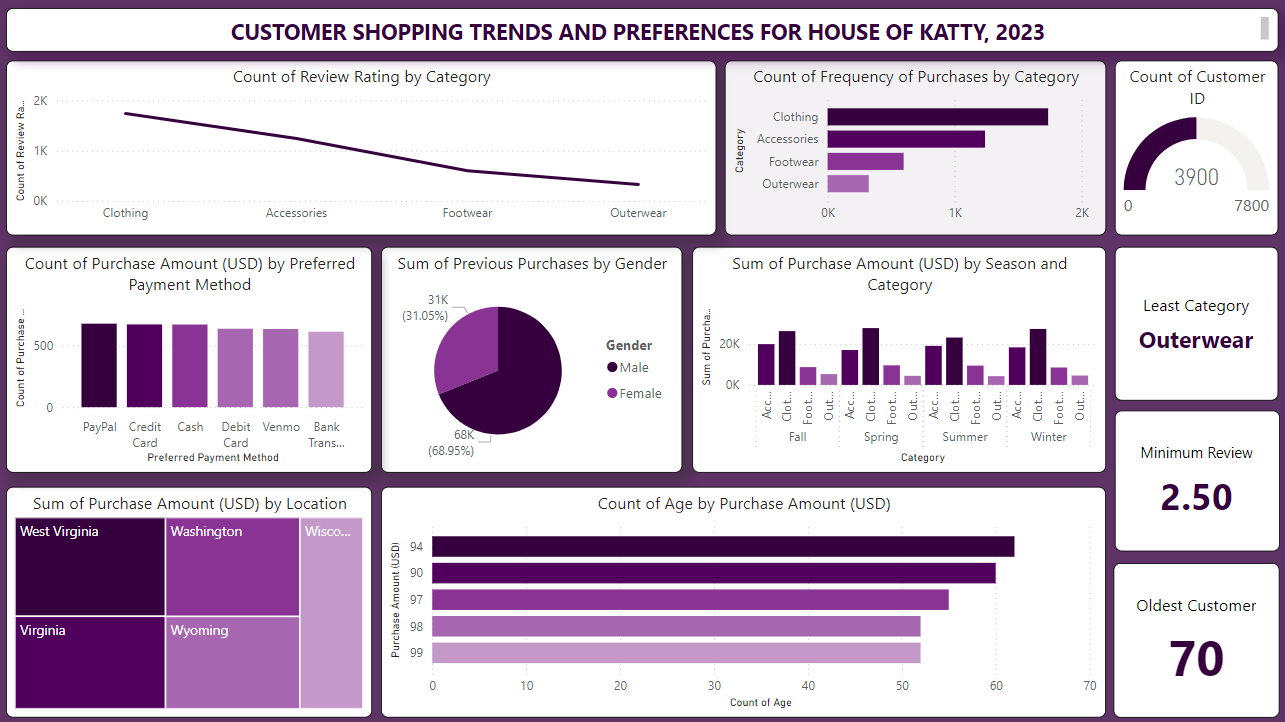

Layout of this report page (visuals, bound fields, positions):
{"tool":"powerbi","page":{"name":"Page 1","canvas":[1280,720],"ordinal":0},"visuals":[{"type":"treemap","fields":{"Group":["shopping_trends.Location"],"Values":["shopping_trends.Purchase Amount (USD)"]},"box":[9.9,482.7,361.7,228.4],"z":0},{"type":"pieChart","fields":{"Category":["shopping_trends.Gender"],"Y":["shopping_trends.Previous Purchases"]},"box":[380.2,245.7,297.5,223.5],"z":1000},{"type":"barChart","fields":{"Y":["shopping_trends.Age"],"Category":["shopping_trends.Purchase Amount (USD)"]},"box":[380.2,482.7,716,228.4],"z":2000},{"type":"clusteredColumnChart","fields":{"Category":["shopping_trends.Season","shopping_trends.Category"],"Y":["shopping_trends.Purchase Amount (USD)"]},"box":[687.7,245.7,408.6,223.5],"z":3000},{"type":"columnChart","fields":{"Category":["shopping_trends.Preferred Payment Method"],"Y":["shopping_trends.Purchase Amount (USD)"]},"box":[9.9,245.7,361.7,223.5],"z":4000},{"type":"lineChart","fields":{"Y":["shopping_trends.Review Rating"],"Category":["shopping_trends.Category"]},"box":[9.9,61.7,701.2,172.8],"z":5000},{"type":"barChart","fields":{"Y":["shopping_trends.Frequency of Purchases"],"Category":["shopping_trends.Category"]},"box":[719.8,61.7,376.5,172.8],"z":6000},{"type":"textbox","box":[9.9,9.9,1256.8,43.2],"z":7000},{"type":"cardVisual","fields":{"Data":["shopping_trends.Category"]},"box":[1104.9,245.7,161.7,151.9],"z":8000},{"type":"gauge","fields":{"Y":["shopping_trends.Customer ID"]},"box":[1104.9,61.7,161.7,172.8],"z":9000},{"type":"cardVisual","fields":{"Data":["shopping_trends.Age"]},"box":[1103.7,558,164.2,153.1],"z":9001},{"type":"cardVisual","fields":{"Data":["shopping_trends.Review Rating"]},"box":[1104.9,407.4,163,139.5],"z":9002}]}

Visuals, with their boxes in screenshot pixels (x1, y1, x2, y2), scaled from the page's 1280x720 canvas onto the 1285x722 screenshot:
treemap - shopping_trends.Location x shopping_trends.Purchase Amount (USD): l=10, t=484, r=373, b=713
pieChart - shopping_trends.Gender x shopping_trends.Previous Purchases: l=382, t=246, r=680, b=471
barChart - shopping_trends.Age x shopping_trends.Purchase Amount (USD): l=382, t=484, r=1100, b=713
clusteredColumnChart - shopping_trends.Season x shopping_trends.Category: l=690, t=246, r=1101, b=471
columnChart - shopping_trends.Preferred Payment Method x shopping_trends.Purchase Amount (USD): l=10, t=246, r=373, b=471
lineChart - shopping_trends.Review Rating x shopping_trends.Category: l=10, t=62, r=714, b=235
barChart - shopping_trends.Frequency of Purchases x shopping_trends.Category: l=723, t=62, r=1101, b=235
textbox: l=10, t=10, r=1272, b=53
cardVisual - shopping_trends.Category: l=1109, t=246, r=1272, b=399
gauge - shopping_trends.Customer ID: l=1109, t=62, r=1272, b=235
cardVisual - shopping_trends.Age: l=1108, t=560, r=1273, b=713
cardVisual - shopping_trends.Review Rating: l=1109, t=409, r=1273, b=548
